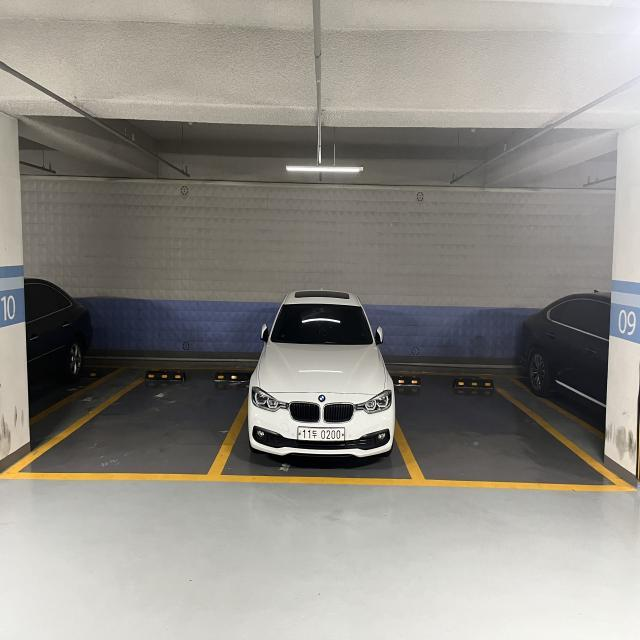empty: (43, 358, 238, 482), (402, 369, 593, 474)
occupied: (236, 266, 408, 485)
